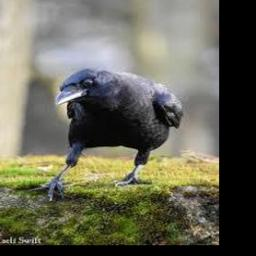Crow: (33, 69, 184, 201)
